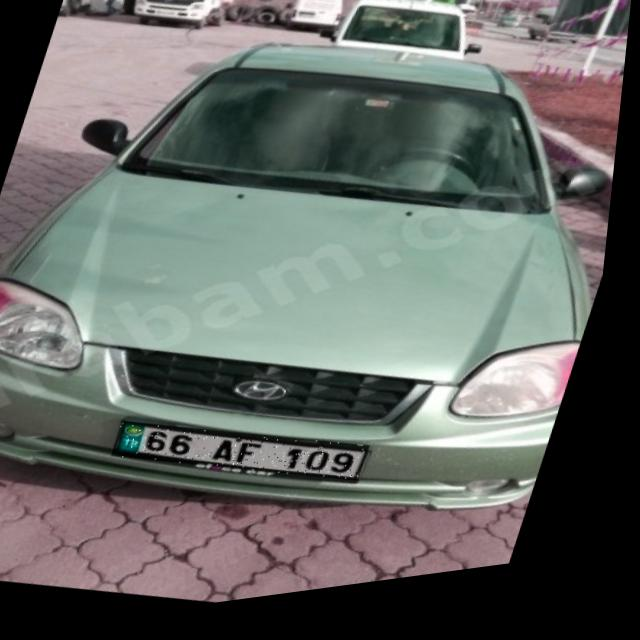license_plate: (116, 398, 384, 519)
